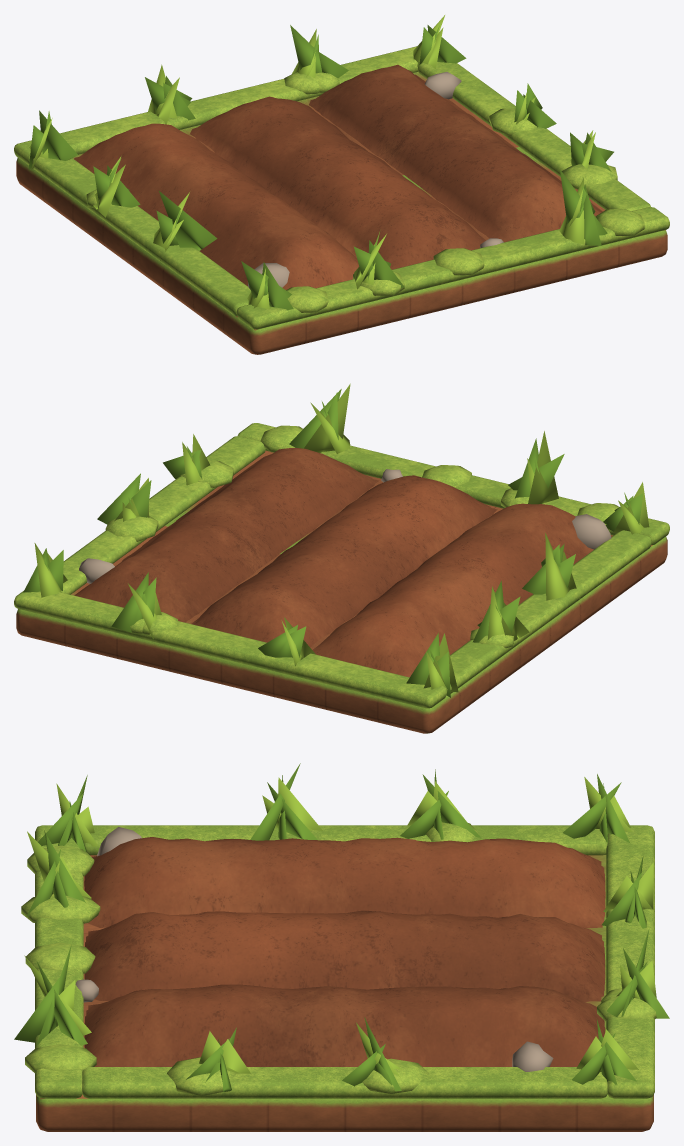
The model's file is dirt_plot.glb.
3 renders of one model, top to bottom at view 1: azimuth 30°, elevation 25°; view 2: azimuth 150°, elevation 25°; view 3: azimuth 270°, elevation 25°, orthographic. The views are drawn at different scales.
Parts seen in each view (by area): view 1: model; view 2: model; view 3: model.
Boxes of the visible parts, bbox=[...] form: model: bbox=[14, 15, 669, 354]; model: bbox=[14, 383, 669, 733]; model: bbox=[14, 763, 669, 1131].
Bounding box in the file's own units: 1.05 × 0.2353 × 1.06.
6 materials, 4 textured.
